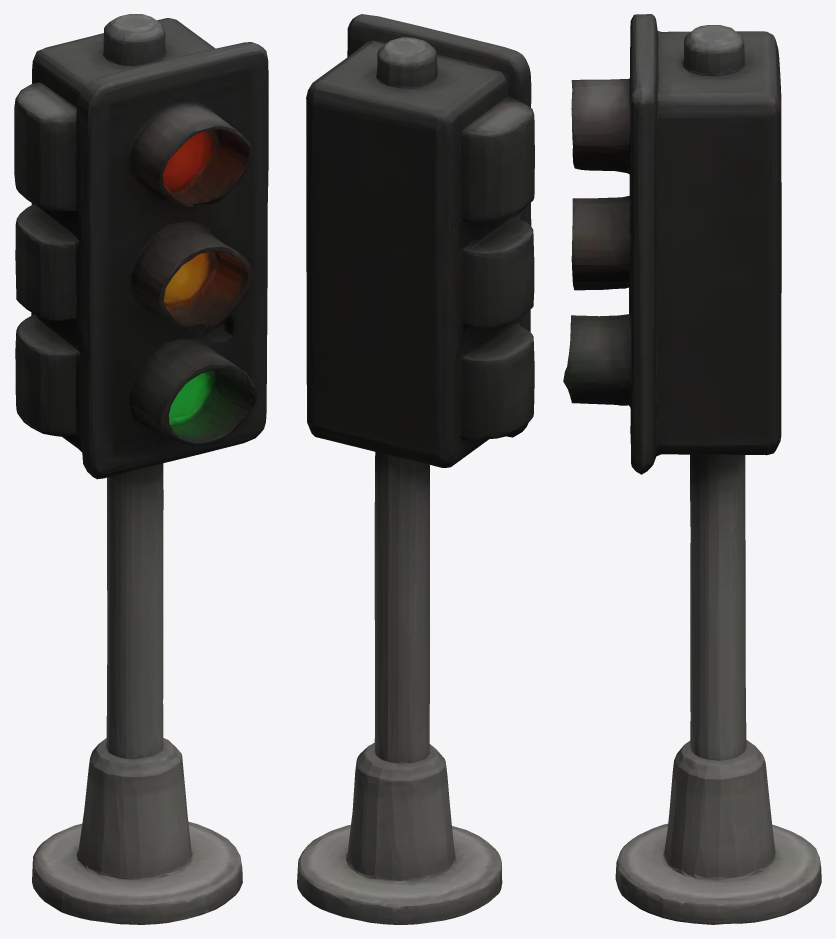
File: traffic light.glb
3 renders of one model, left to right at view 1: azimuth 30°, elevation 25°; view 2: azimuth 150°, elevation 25°; view 3: azimuth 270°, elevation 25°, orthographic. The views are drawn at different scales.
Visible parts, largest first — view 1: world; view 2: world; view 3: world.
Part boxes in pixels (bbox=[...]): world: bbox=[14, 14, 268, 924]; world: bbox=[297, 14, 534, 924]; world: bbox=[563, 14, 821, 924].
Size of the model in its own units: 0.2578 by 0.999 by 0.277.
1 material, 1 textured.
